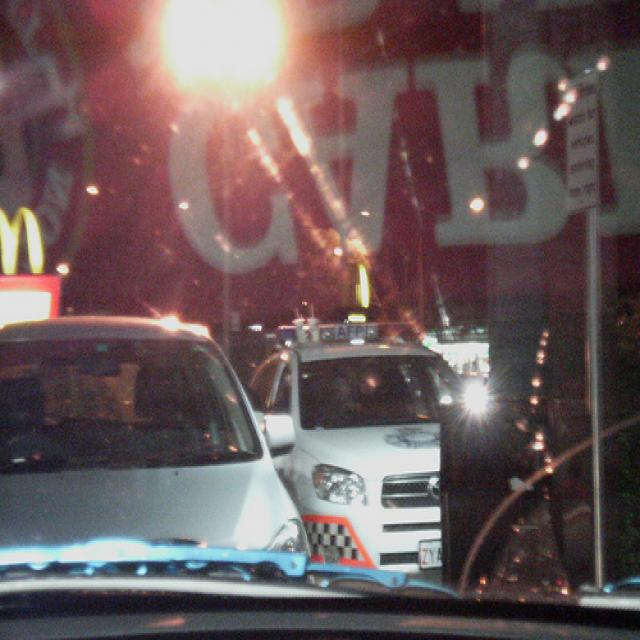Car: (0, 314, 307, 629), (248, 334, 484, 637)
